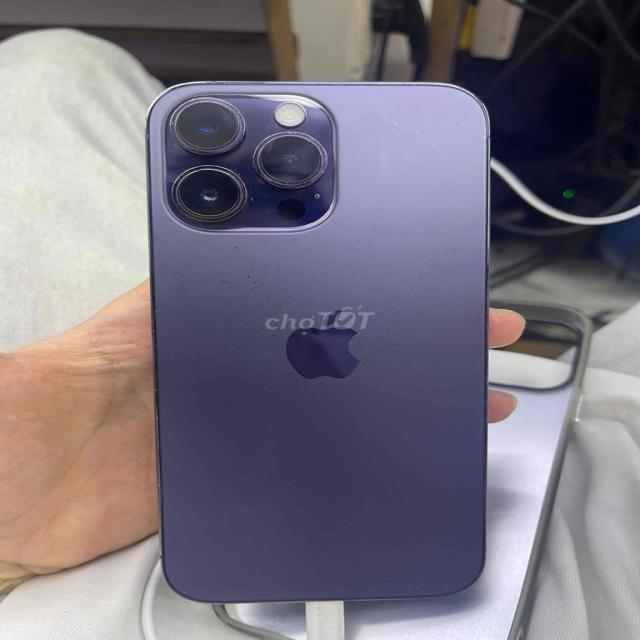gen_14: (138, 72, 502, 615)
